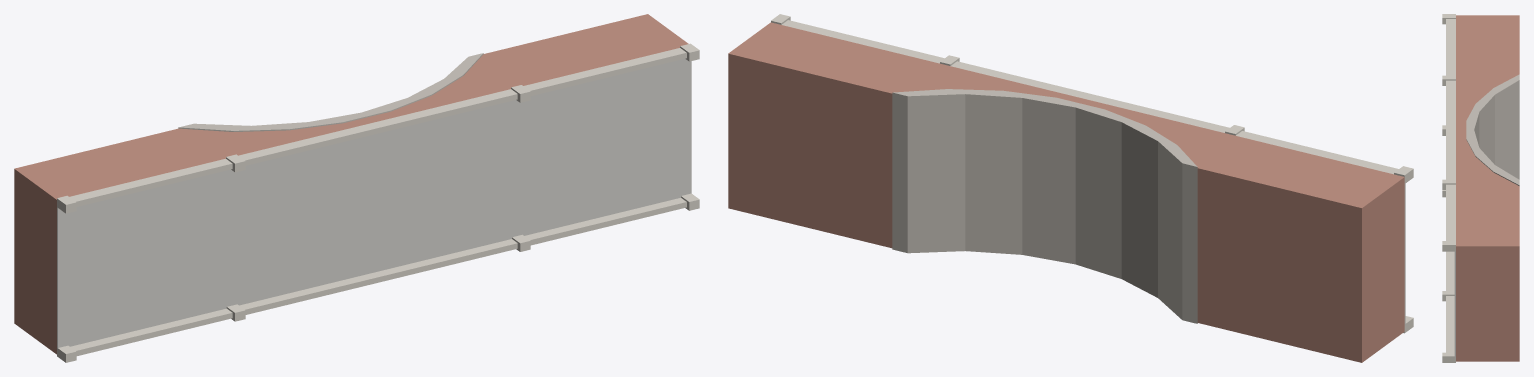
File: r-123-krugkoppel-bridge.glb
3 renders of one model, left to right at view 1: azimuth 30°, elevation 25°; view 2: azimuth 150°, elevation 25°; view 3: azimuth 270°, elevation 25°, orthographic. The views are drawn at different scales.
Parts seen in each view (by area): view 1: deck, brick-body, parapets, arch-ring; view 2: brick-body, arch-ring, parapets; view 3: brick-body, arch-ring, parapets, deck.
Part boxes in pixels (x1,y1,x2,y2): deck: [57, 58, 691, 347]; brick-body: [14, 14, 688, 354]; parapets: [57, 43, 699, 362]; arch-ring: [178, 53, 483, 131]; brick-body: [728, 22, 1404, 362]; arch-ring: [892, 89, 1197, 323]; parapets: [771, 14, 1413, 333]; brick-body: [1456, 15, 1519, 361]; arch-ring: [1466, 74, 1519, 185]; parapets: [1442, 14, 1455, 362]; deck: [1454, 251, 1455, 357].
Size of the model in its own units: 60000 by 14297 by 8502.
